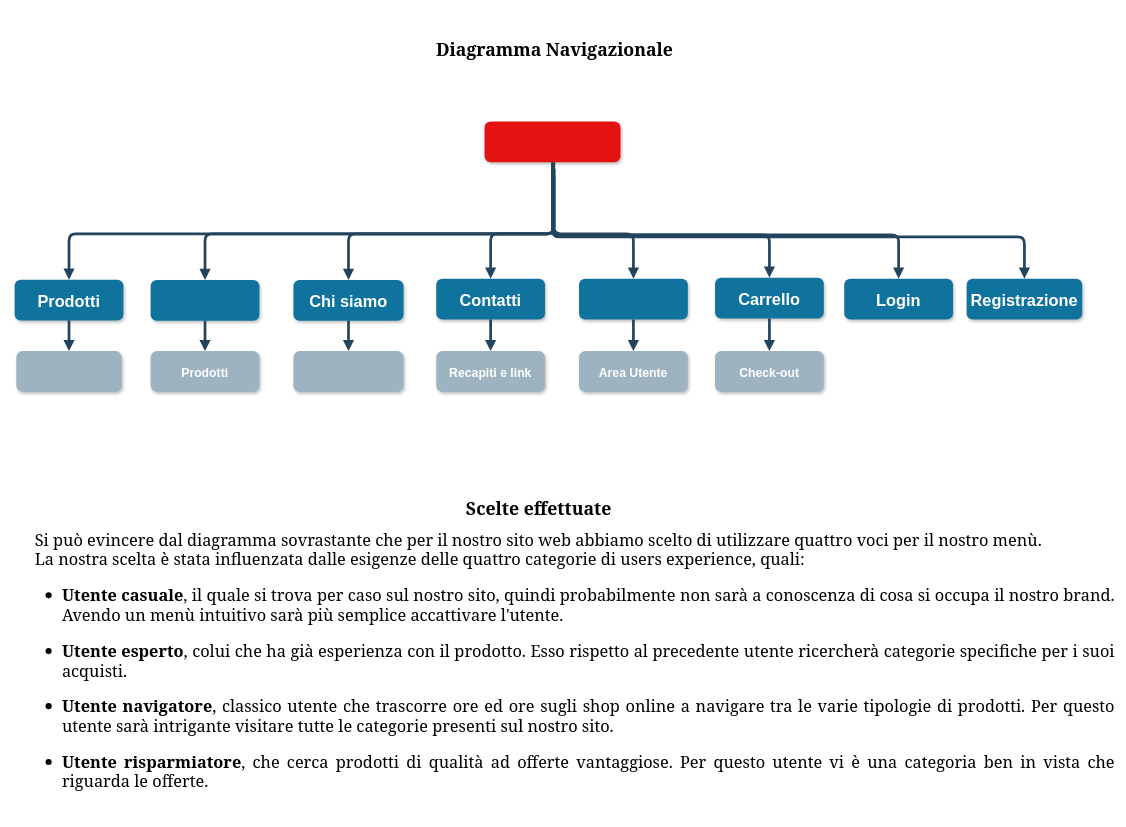
This 1126x827 diagram has some shape labels left out. The centre of each missing label's shape, as x and y in pixels:
"Categorie" goes at pixel 69 372.
"Descrizione" goes at pixel 348 372.
"Home" goes at pixel 552 142.
"Offerte" goes at pixel 205 301.
"Utente" goes at pixel 634 300.
